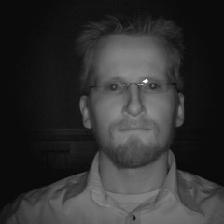normal: (67, 19, 202, 167)
